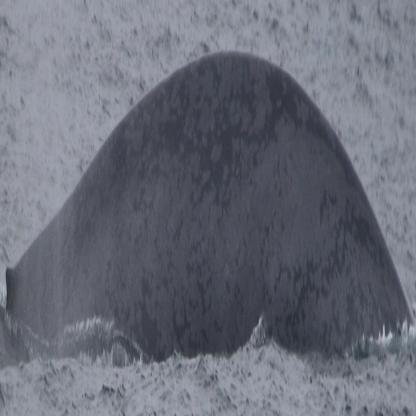dolphin-whale: (3, 48, 410, 366)
